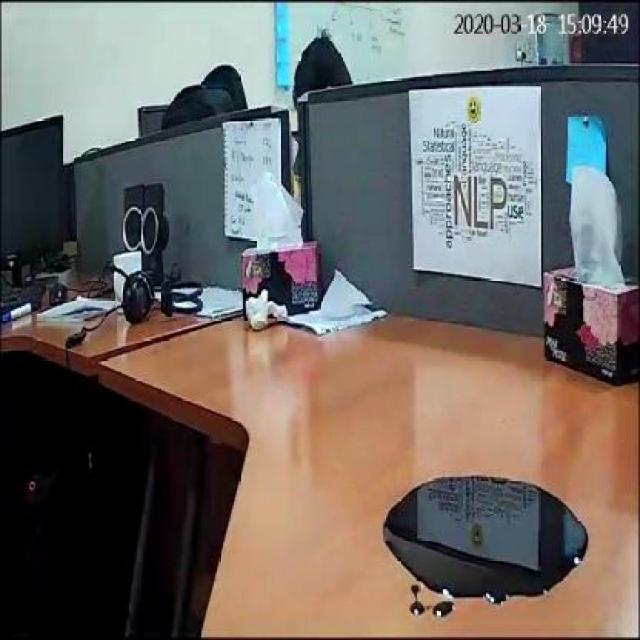spill: (378, 474, 586, 598)
